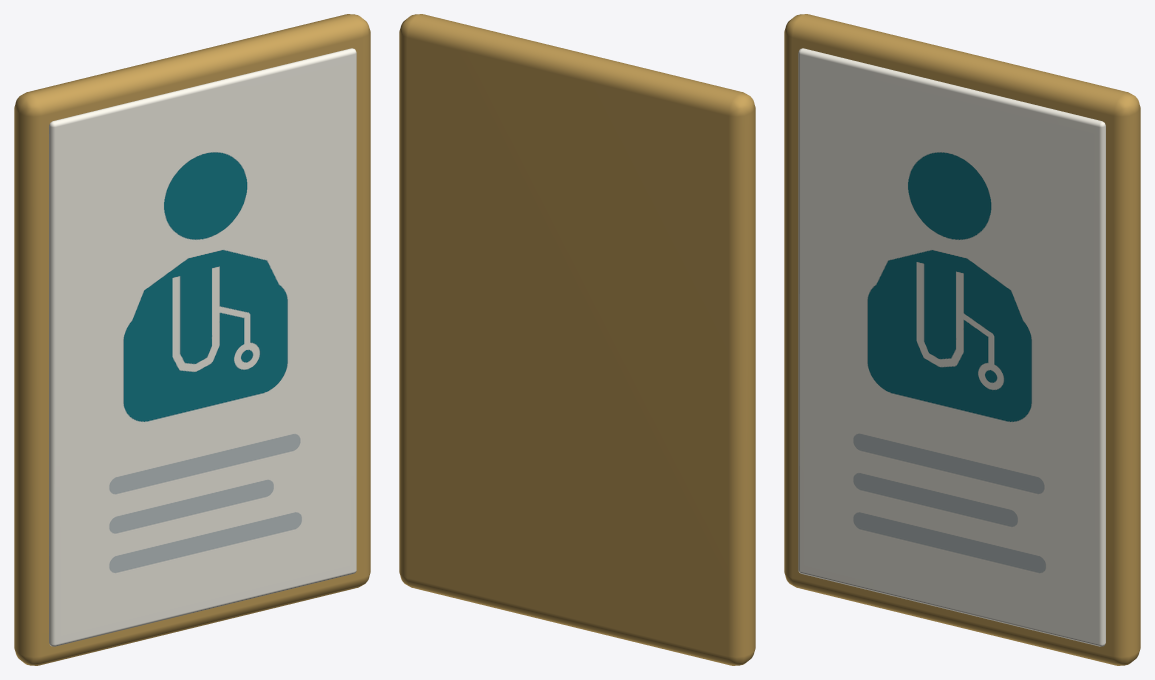
The model's file is Reception_Poster_Clinician.glb.
The picture shows the model from 3 angles, left to right: view 1: azimuth 30°, elevation 25°; view 2: azimuth 150°, elevation 25°; view 3: azimuth 330°, elevation 25°; orthographic projection.
Visible parts, largest first — view 1: Reception_Poster_Clinician__Graphics, Reception_Poster_Clinician__Visual; view 2: Reception_Poster_Clinician__Graphics; view 3: Reception_Poster_Clinician__Graphics, Reception_Poster_Clinician__Visual.
Part boxes in pixels (bbox=[...]): Reception_Poster_Clinician__Graphics: bbox=[14, 14, 370, 665]; Reception_Poster_Clinician__Visual: bbox=[49, 48, 356, 646]; Reception_Poster_Clinician__Graphics: bbox=[399, 14, 755, 665]; Reception_Poster_Clinician__Graphics: bbox=[784, 14, 1140, 665]; Reception_Poster_Clinician__Visual: bbox=[798, 48, 1105, 646].
Size of the model in its own units: 0.59 by 0.92 by 0.066.
Materials: 2 (2 with a texture image).
